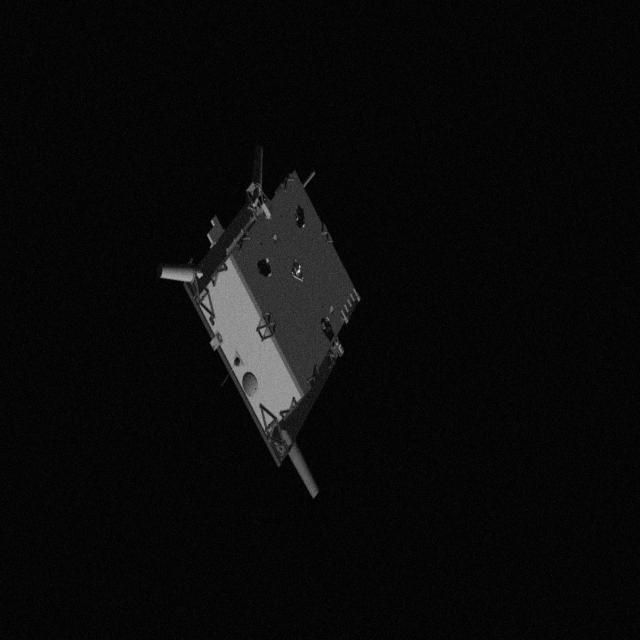satellite: (152, 152, 386, 506)
